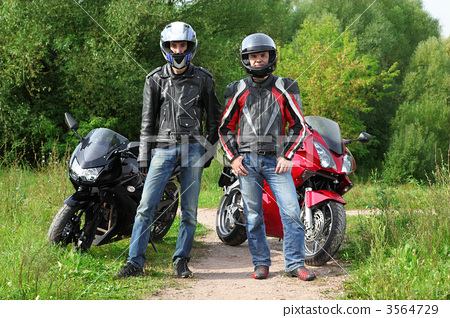helmet: (238, 31, 274, 78), (160, 21, 198, 65)
